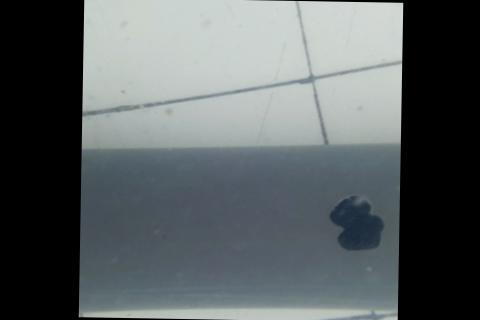kebocoran: (328, 195, 385, 251)
